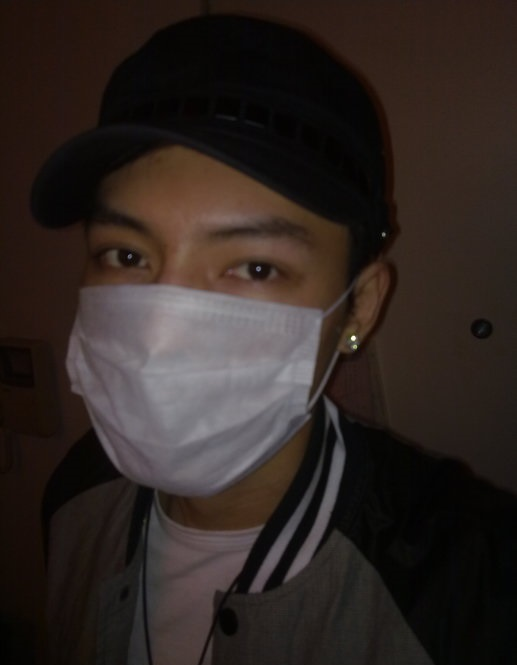face_mask: (80, 126, 338, 502)
